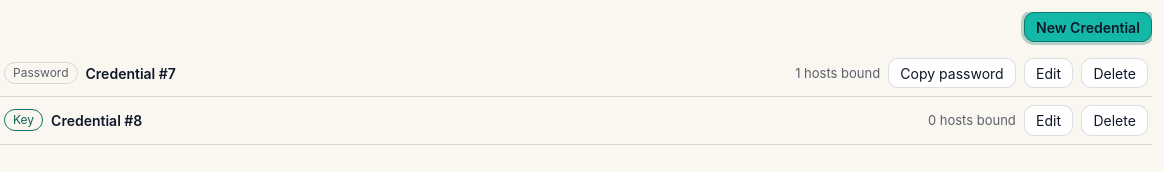
CredentialList 密码复制（T11） › password 凭据显示复制按钮，点击发 vault_copy_credential_secret 并亮「已复制」
The width and height of the screenshot is (1164, 172).
Click the button with test id "cred-copy-7".
click(952, 73)  # box [888,58,1016,88]
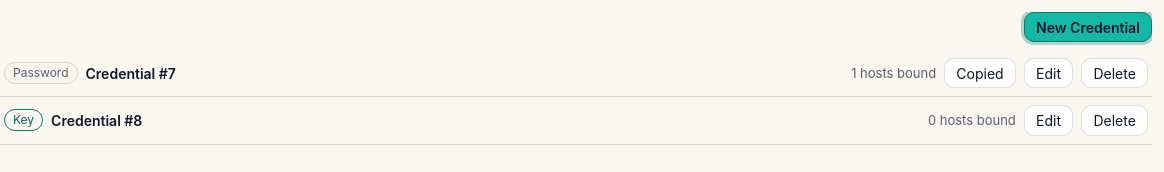
Now the button with test id "cred-copy-7" reads "Copied", box [944,58,1016,88]
